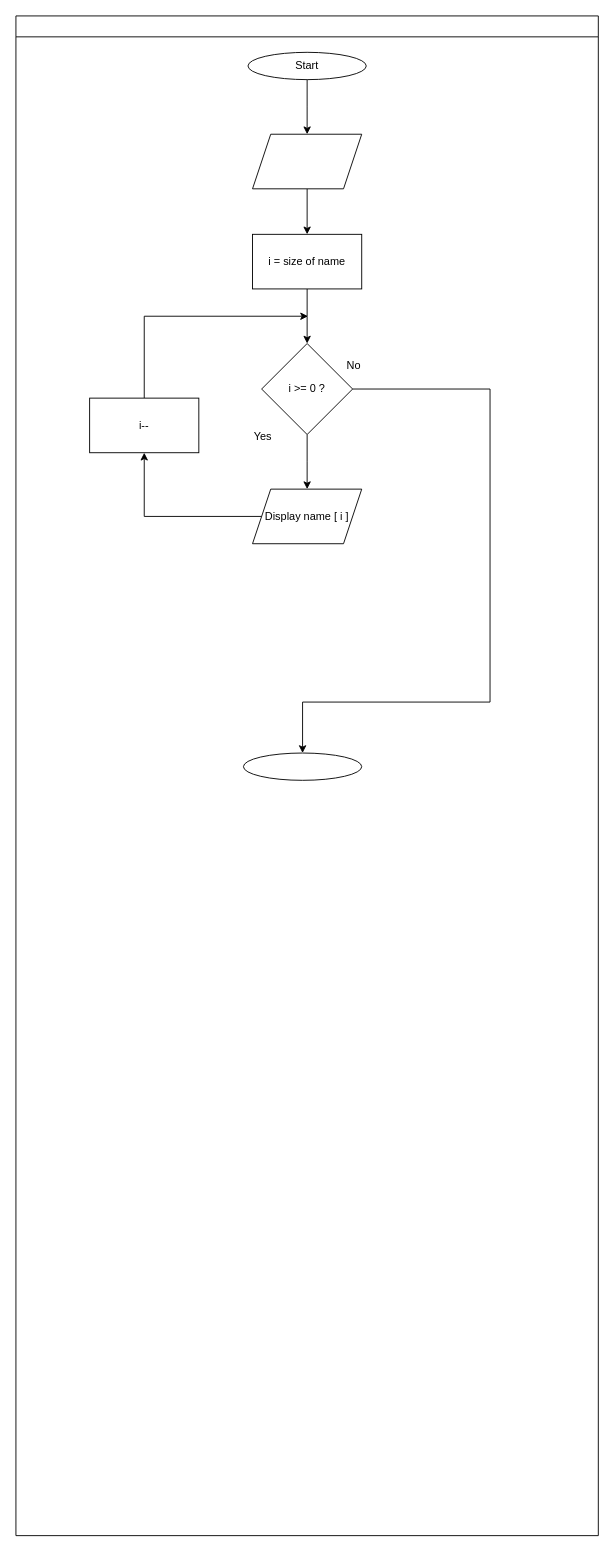
Some shapes in this 614 by 1552 pixel diagram are drawn without their labels. Here are the shapes that lost their labels. From the top down, the centre of each, then its label:
At point (307, 161): "Read name".
At point (302, 766): "End".
